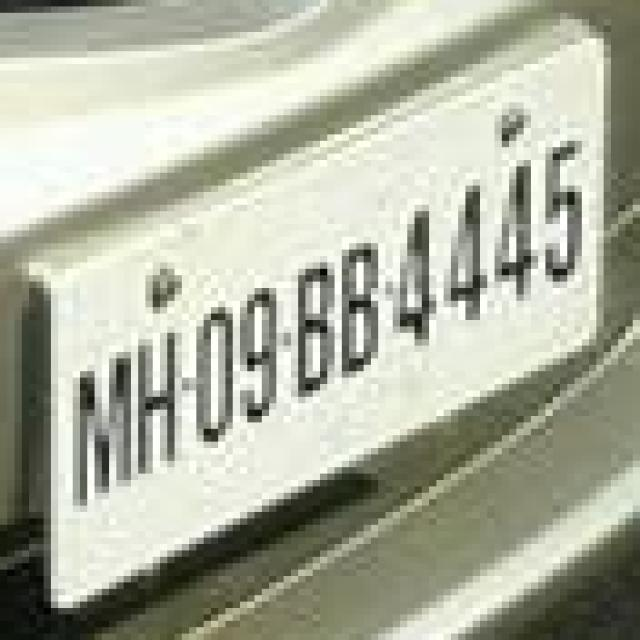license_plate: (102, 109, 582, 550)
